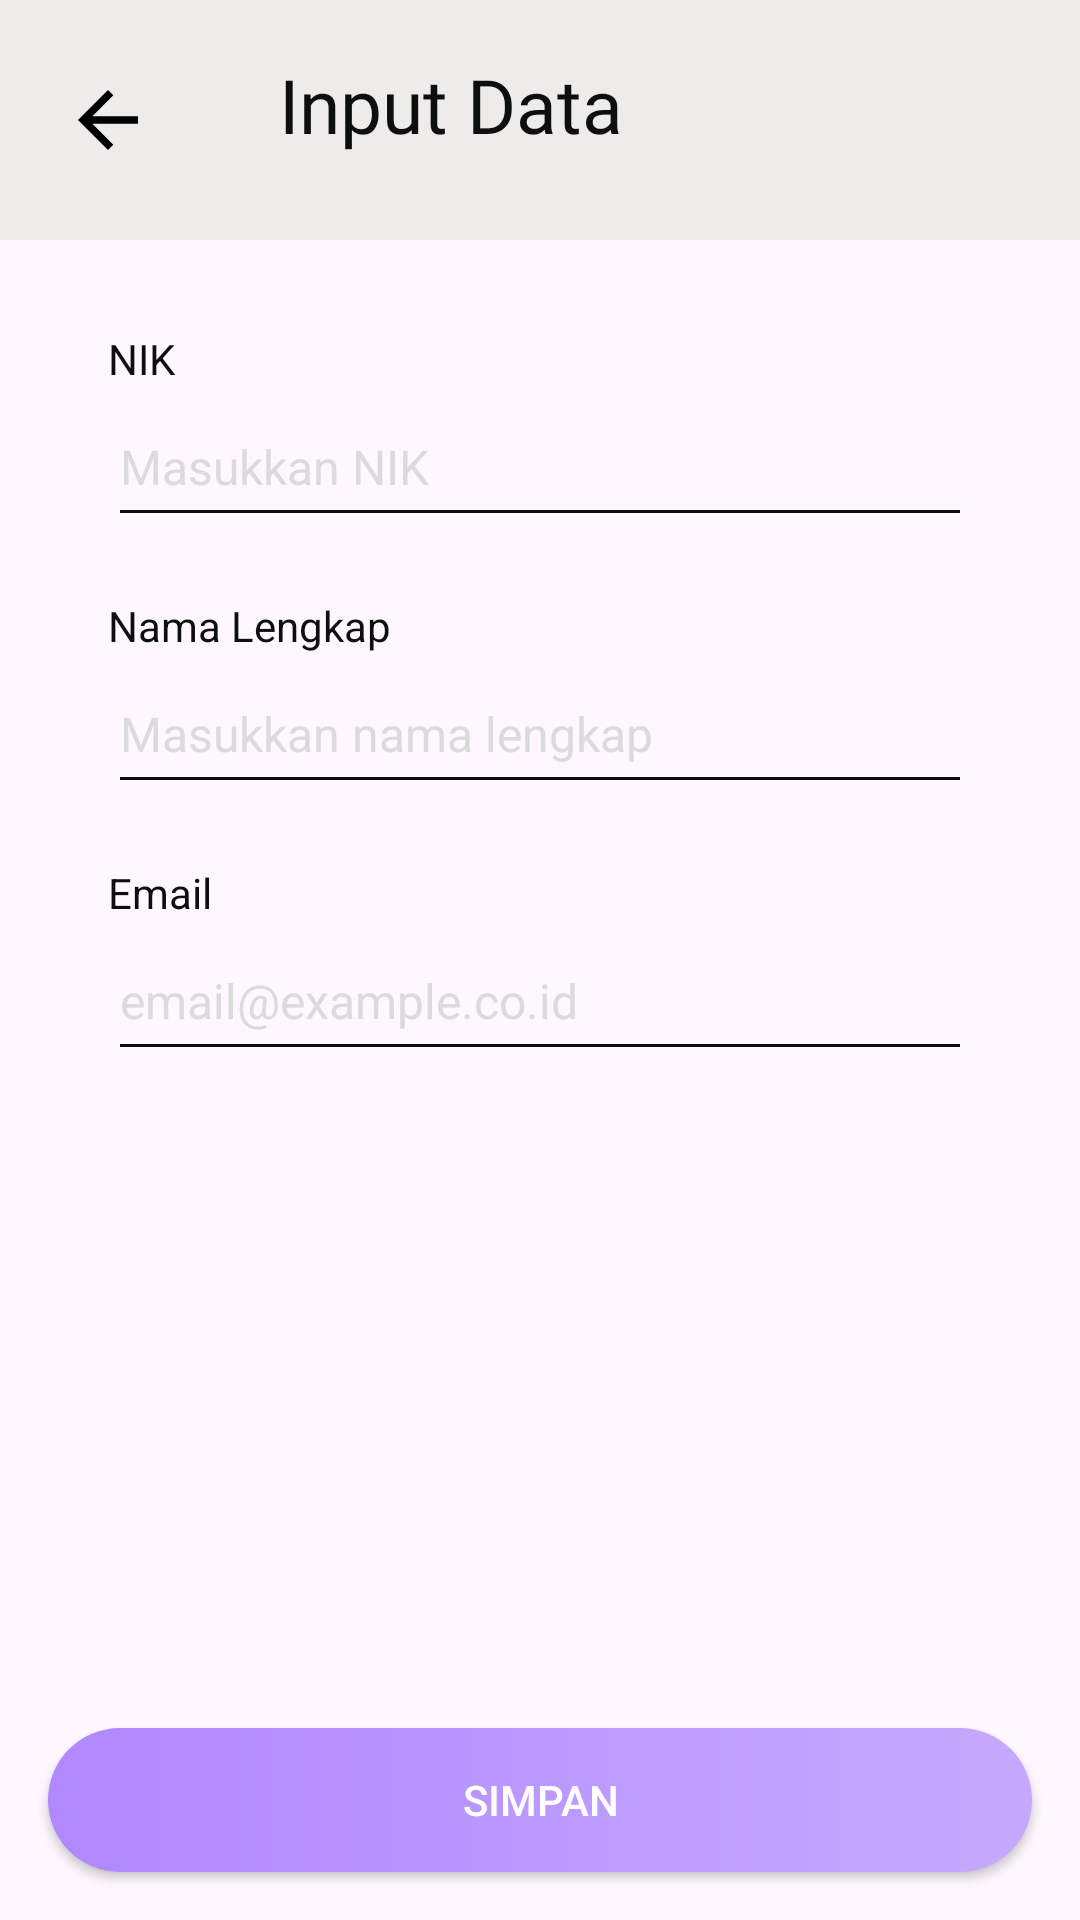

Locate icon controls on the screen. Image size 1080px×1920px, boxes as detection(x1, y1, x2, y2).
back: detection(78, 90, 138, 150)
